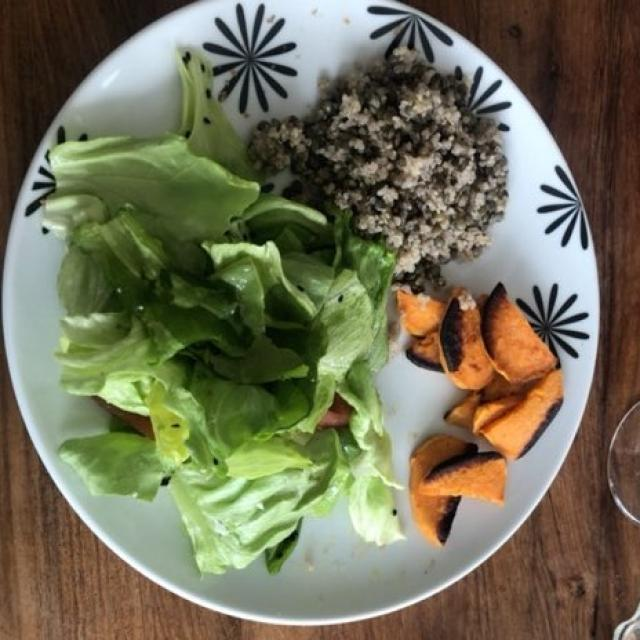lentils: (253, 56, 507, 277)
quinoa: (254, 54, 506, 277)
salad: (53, 64, 387, 568)
sweet-potato: (386, 282, 551, 541)
